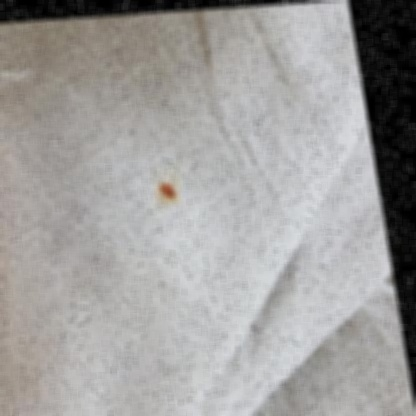kimchi: (155, 173, 178, 204)
